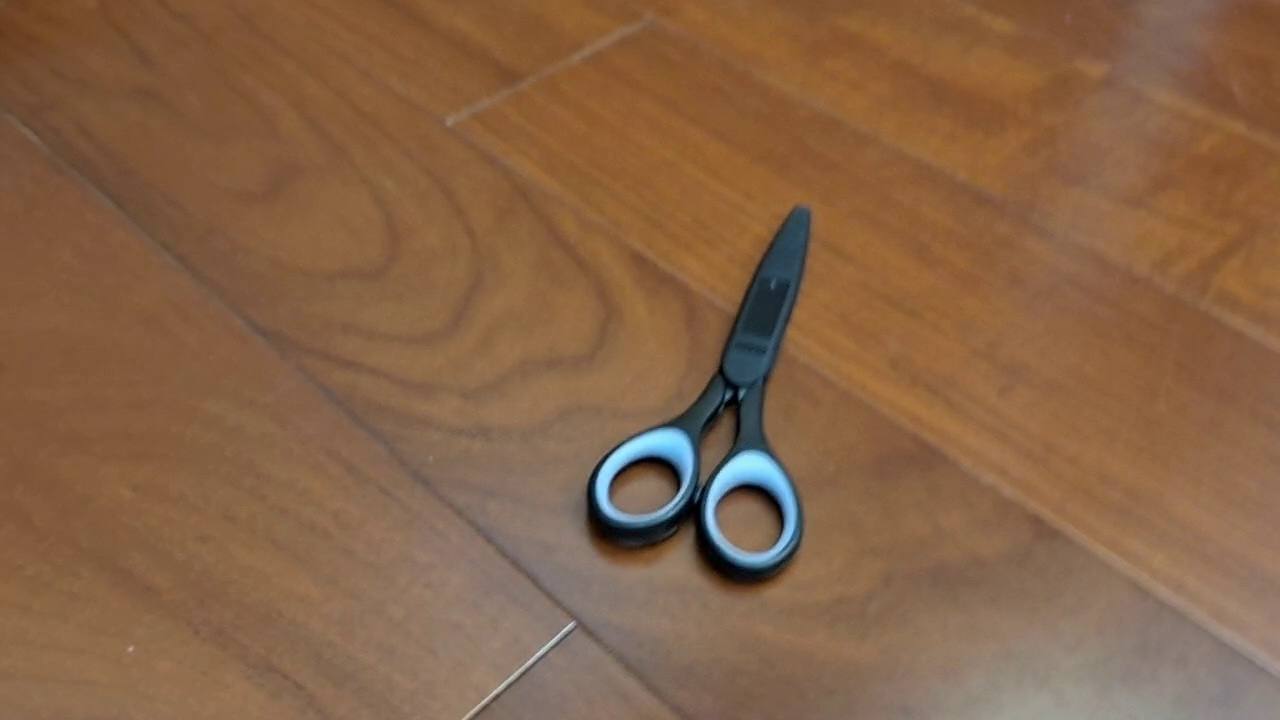scissors: (584, 203, 814, 585)
